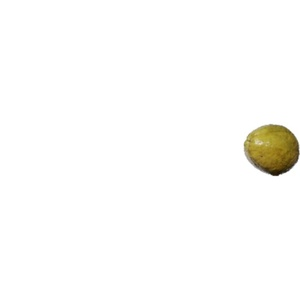goiaba: (242, 119, 298, 180)
